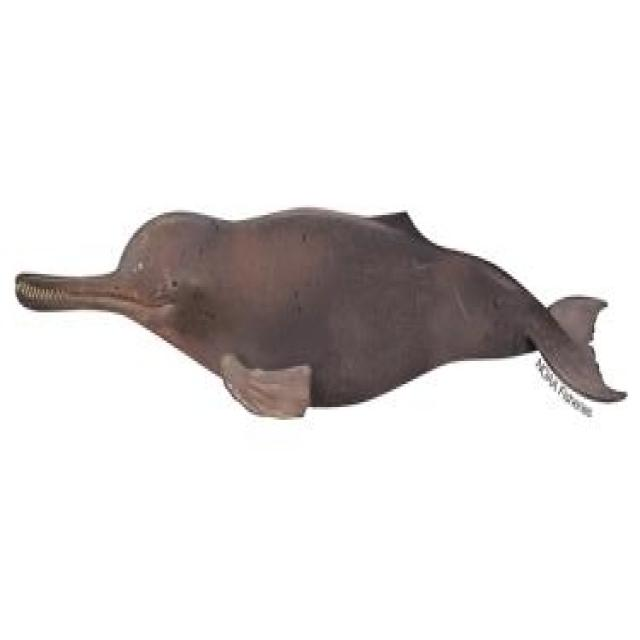penguin: (15, 207, 625, 415)
